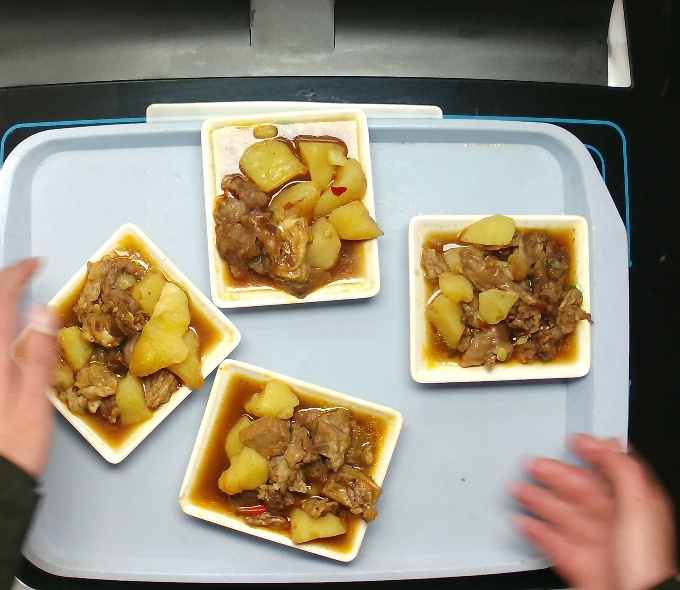wcq-TuDouNiuNan: (26, 232, 228, 454), (186, 361, 400, 558), (211, 113, 385, 298), (415, 216, 590, 374)
